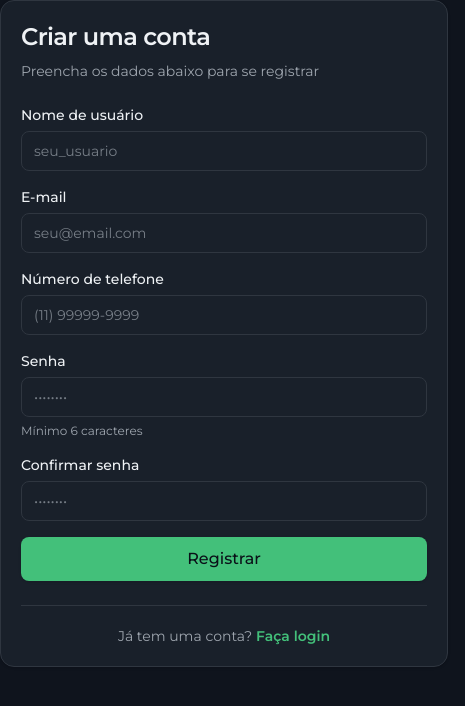
it: Register › exige senhas iguais
In the field labelled "Nome de usuário": (224, 151) x1=21 y1=131 x2=427 y2=171, type "vitor"
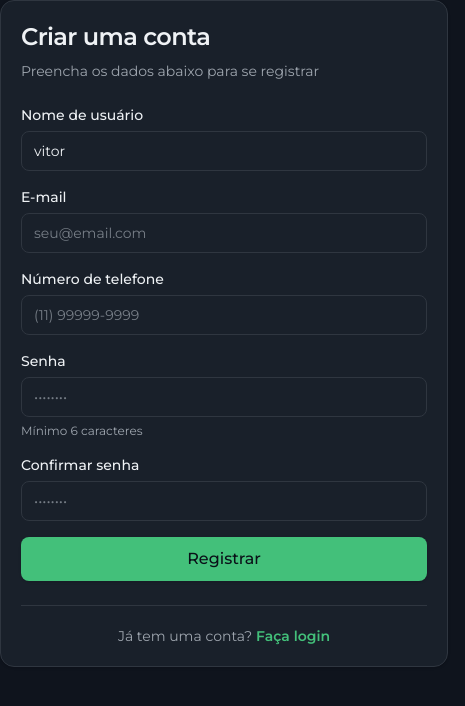
In the field labelled "E-mail": (224, 233) x1=21 y1=213 x2=427 y2=253, type "a@b.com"
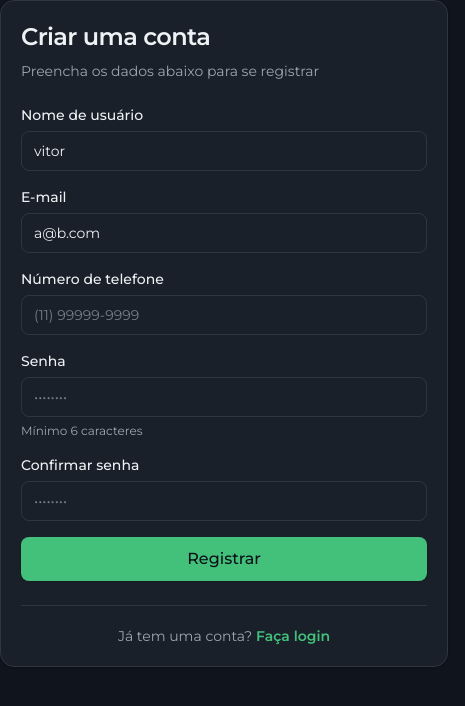
In the field labelled "Número de telefone": (224, 315) x1=21 y1=295 x2=427 y2=335, type "11999999999"
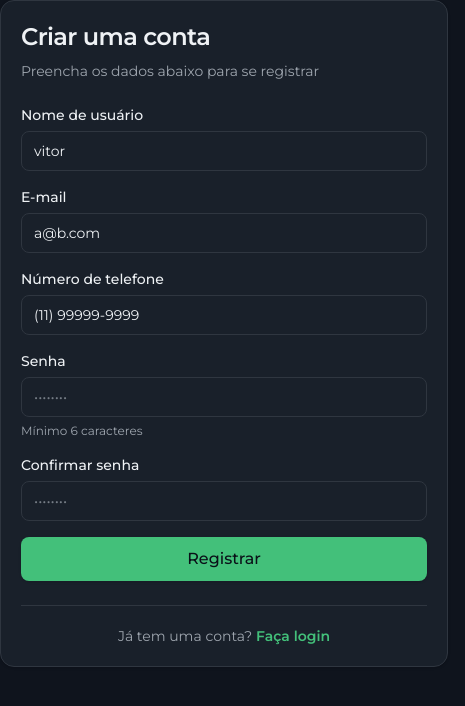
In the password field labelled "Senha": (224, 397) x1=21 y1=377 x2=427 y2=417, type "123456"
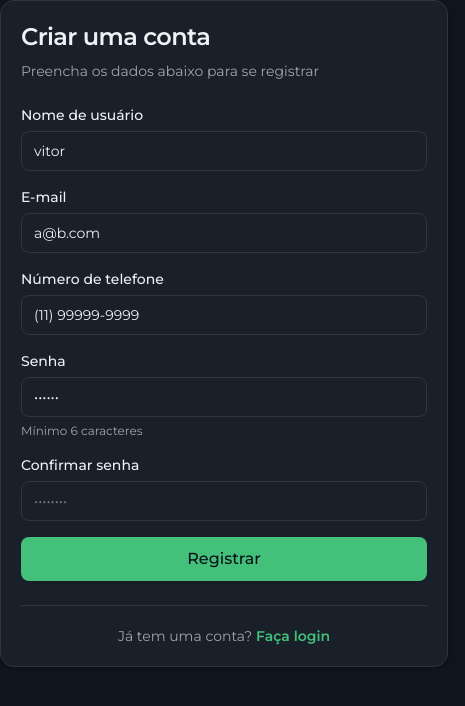
In the password field labelled "Confirmar senha": (224, 501) x1=21 y1=481 x2=427 y2=521, type "654321"
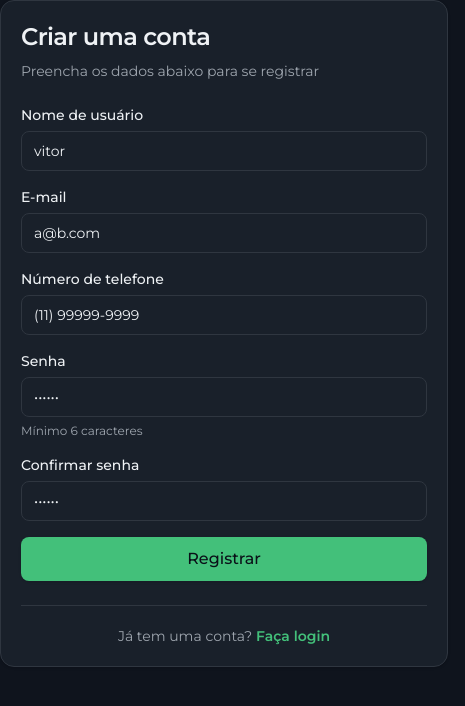
Submit the form, box x1=21 y1=105 x2=427 y2=581
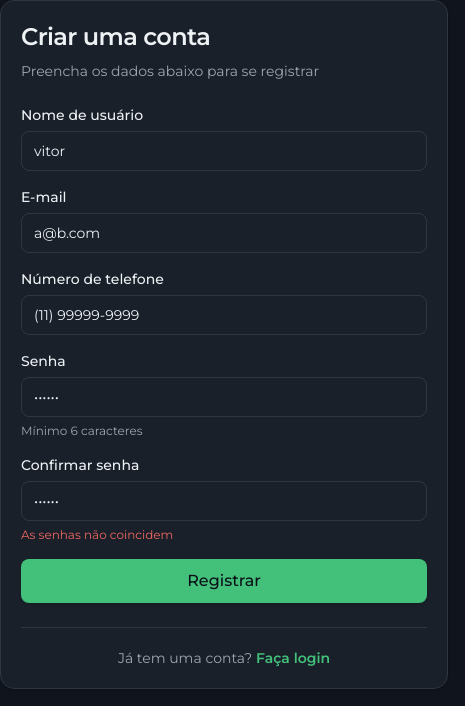
Now the text "As senhas não coincidem" is shown, box x1=21 y1=527 x2=173 y2=542
